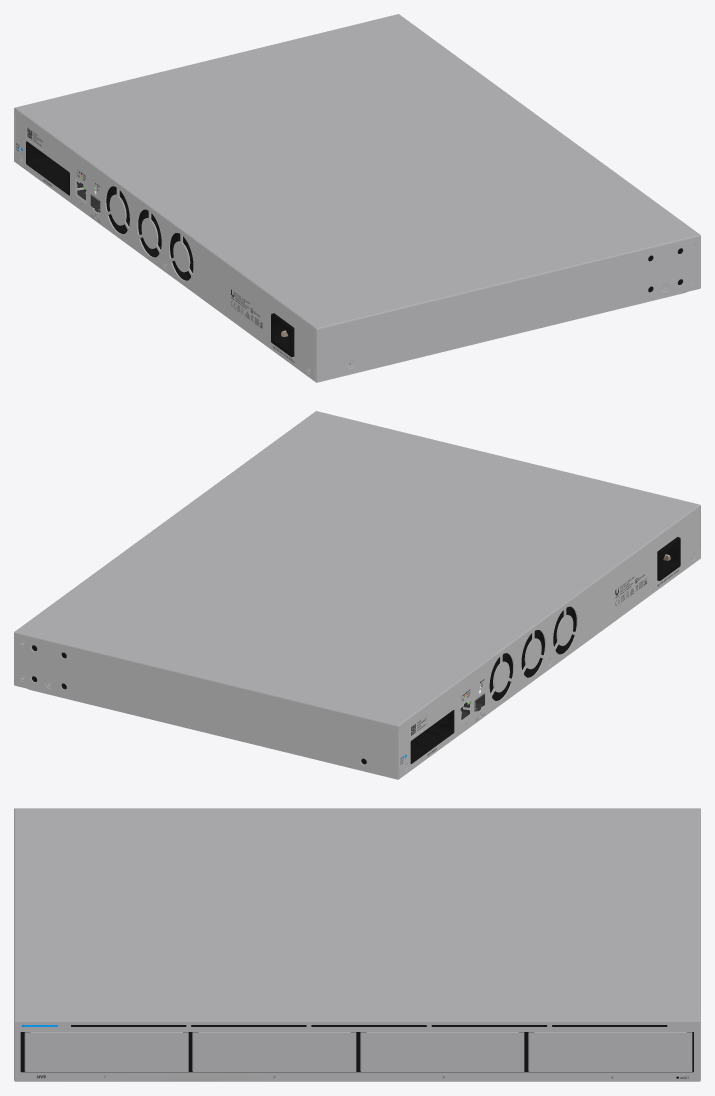
The model's file is unvr.glb.
3 views of the same model, one above another, from view 1: azimuth 30°, elevation 25°; view 2: azimuth 150°, elevation 25°; view 3: azimuth 270°, elevation 25° (orthographic). The views are drawn at different scales.
Visible parts, largest first — view 1: UNVR-Module, Case, Plastic; view 2: UNVR-Module, Case, Plastic; view 3: UNVR-Module, Slot, Slot_Instance, Slot_Instance_1, Slot_Instance_2.
Boxes of the visible parts, <box> form: UNVR-Module: <box>14,14,700,382</box>; Case: <box>26,141,69,195</box>; Plastic: <box>271,313,294,357</box>; UNVR-Module: <box>14,411,700,779</box>; Case: <box>410,710,454,763</box>; Plastic: <box>657,537,680,580</box>; UNVR-Module: <box>14,808,700,1081</box>; Slot: <box>24,1032,188,1071</box>; Slot_Instance: <box>192,1032,356,1071</box>; Slot_Instance_1: <box>360,1032,524,1071</box>; Slot_Instance_2: <box>528,1032,692,1071</box>.
Bounding box in the file's own units: 0.3273 × 0.0437 × 0.4424.
Materials: 2 (1 with a texture image).
